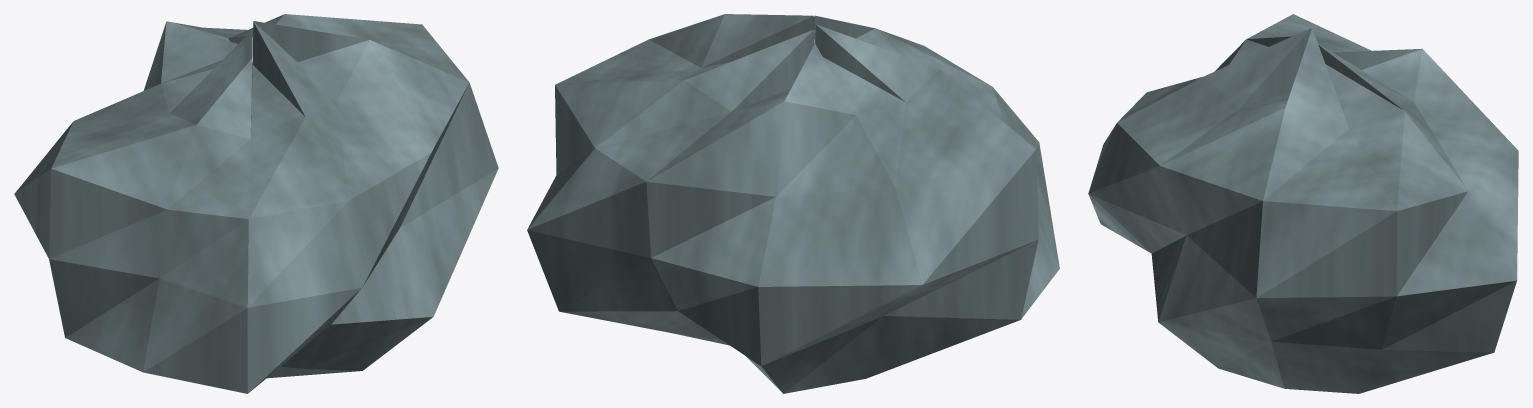
File: roadside_rock_01.glb
3 renders of one model, left to right at view 1: azimuth 30°, elevation 25°; view 2: azimuth 150°, elevation 25°; view 3: azimuth 270°, elevation 25°, orthographic. The views are drawn at different scales.
Visible parts, largest first — view 1: rock; view 2: rock; view 3: rock.
Part boxes in pixels (x1,y1,x2,y2): rock: [14, 14, 498, 393]; rock: [527, 14, 1059, 393]; rock: [1088, 14, 1518, 393].
Bounding box in the file's own units: 2.44 × 1.94 × 2.22.
Materials: 1 (1 with a texture image).
